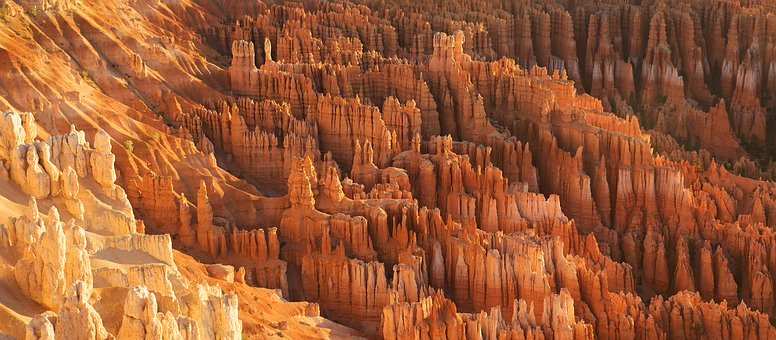ground: (5, 3, 765, 335)
